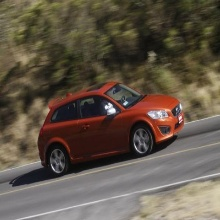no damage: (37, 81, 185, 175)
